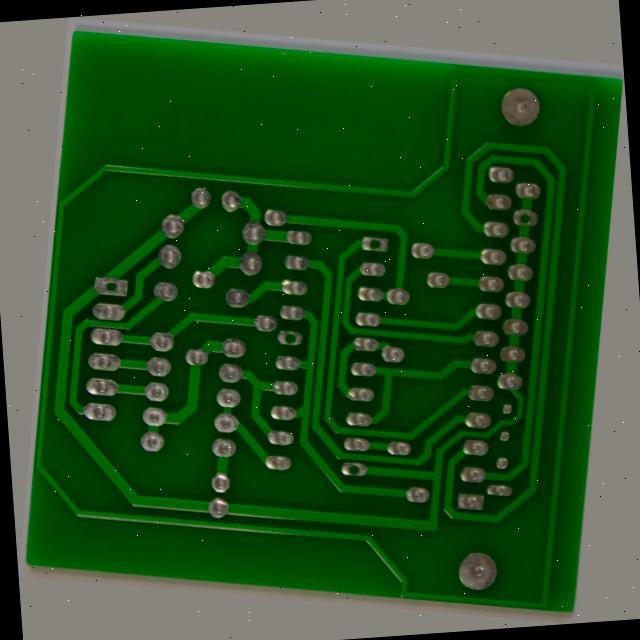missing_hole: (61, 304, 90, 334), (519, 155, 548, 180), (351, 213, 382, 236), (274, 334, 302, 357), (371, 471, 399, 494)
